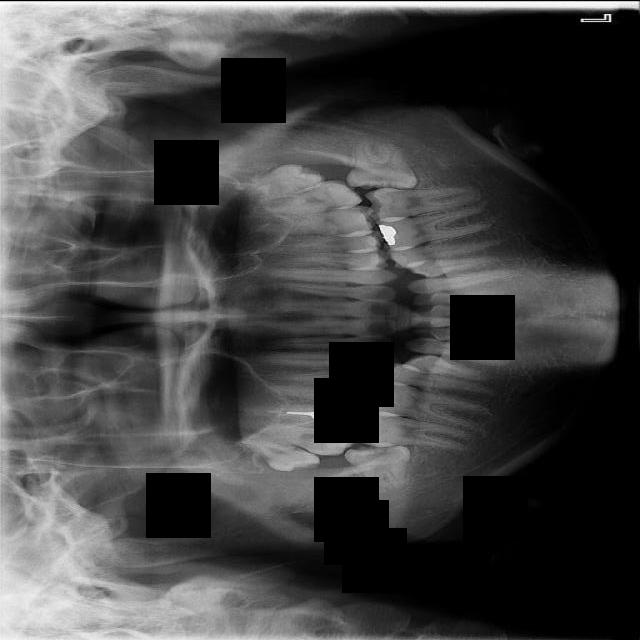3M ESPE Implant: (225, 424, 322, 482)
52: (375, 209, 425, 256), (320, 397, 367, 432)
73: (246, 402, 323, 430), (558, 74, 580, 80)
BioHorizons Implant: (248, 175, 364, 220)
BioLife Implant: (232, 155, 328, 207)
Biomet 3i Implant: (345, 137, 421, 194)
Blue Sky Bio Implant: (364, 182, 474, 223)
Caries: (240, 411, 361, 461)
Implant: (356, 407, 474, 463)
Keystone Dental Implant: (340, 435, 411, 491)
